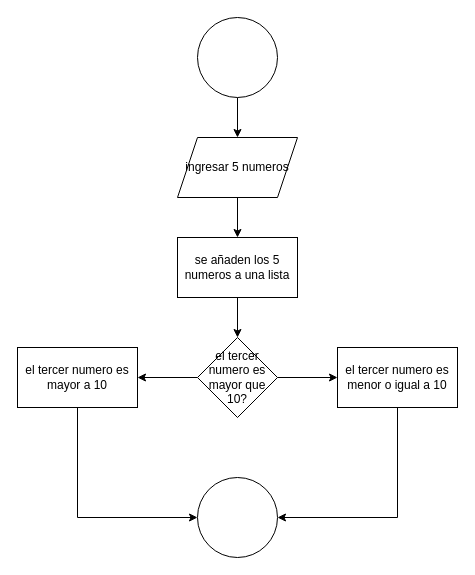
Image size: 475x575. Some labels were removed from this diagram. Here are the shapes that lost their labels. From the top down, the centre of each, then its label:
(237,57): inicio
(237,517): fin
